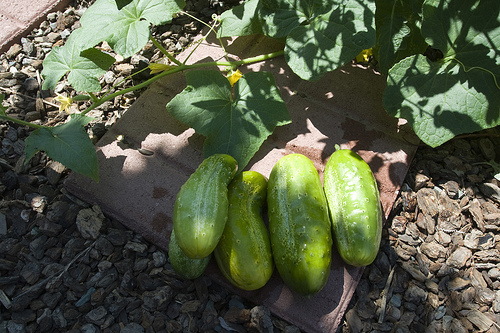cucumber: (268, 151, 334, 298), (214, 168, 274, 290), (171, 152, 240, 258), (322, 148, 382, 267)
